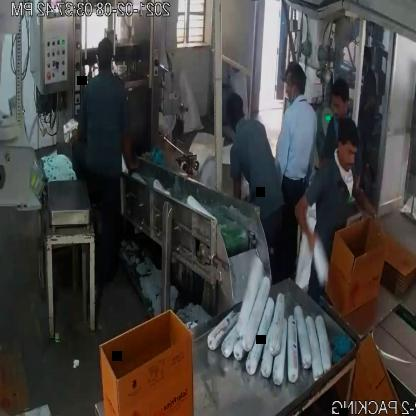no_glove: (290, 171, 324, 257), (345, 174, 383, 223)
